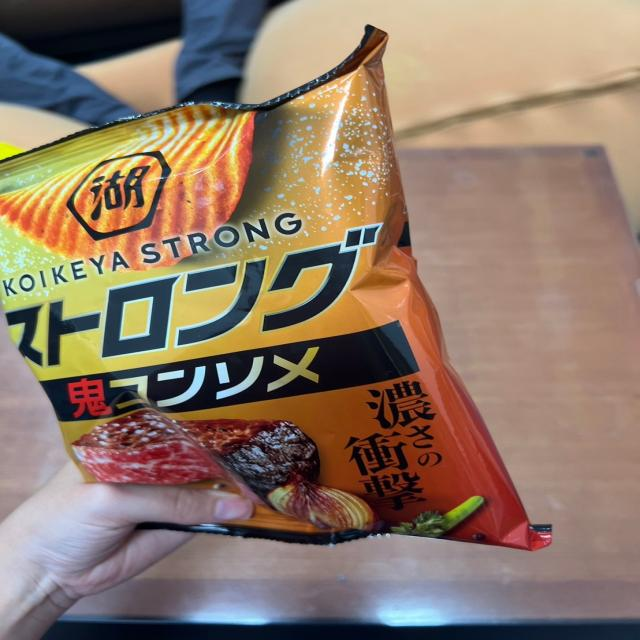chips-consome: (0, 24, 549, 544)
